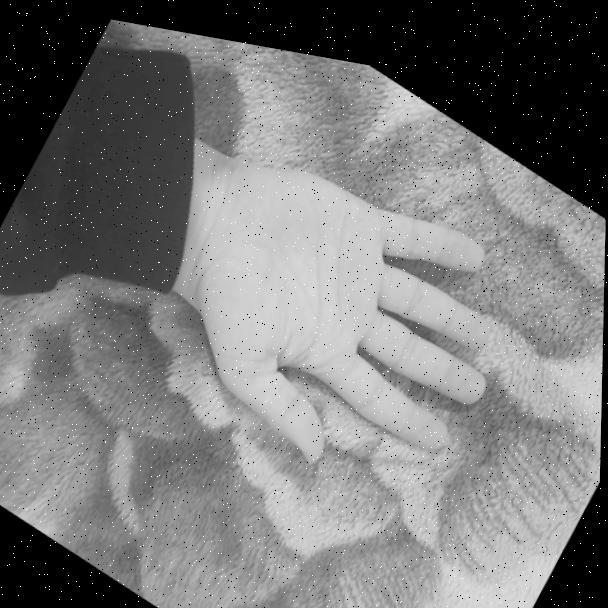five: (114, 61, 551, 538)
